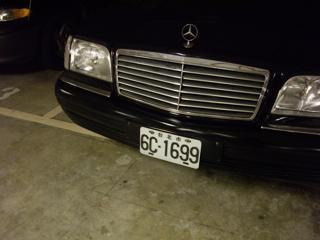plate: (137, 126, 202, 170)
